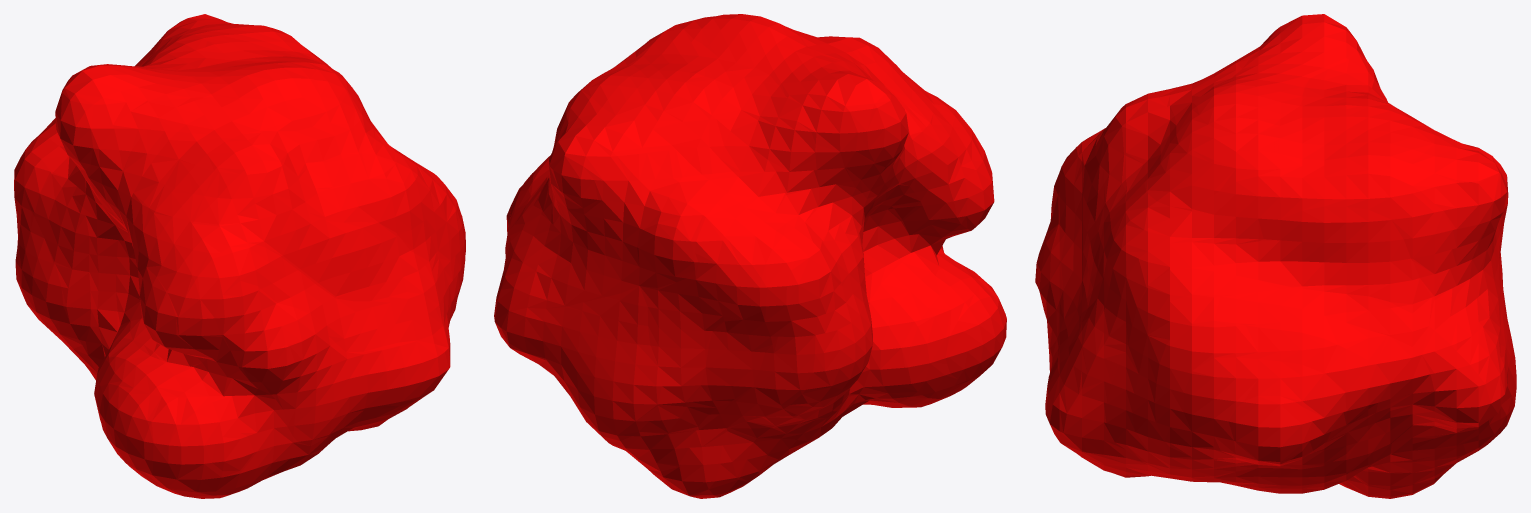
Rendered from rlmE_coarse.dae.
3 views of the same model, side by side, from view 1: azimuth 30°, elevation 25°; view 2: azimuth 150°, elevation 25°; view 3: azimuth 270°, elevation 25° (orthographic). The views are drawn at different scales.
Visible parts, largest first — view 1: rlmE; view 2: rlmE; view 3: rlmE.
Part boxes in pixels (x1=…): rlmE: x1=14, y1=14, x2=465, y2=498; rlmE: x1=494, y1=14, x2=1006, y2=498; rlmE: x1=1035, y1=14, x2=1516, y2=498.
Bounding box in the file's own units: 43.44 × 40.73 × 42.2.
